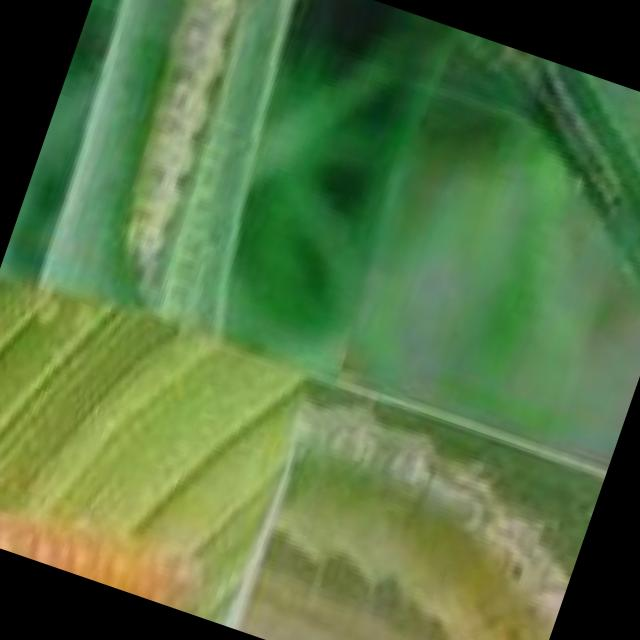leaf-folder: (225, 382, 598, 640), (59, 0, 277, 290), (0, 435, 222, 614), (444, 40, 640, 229)
